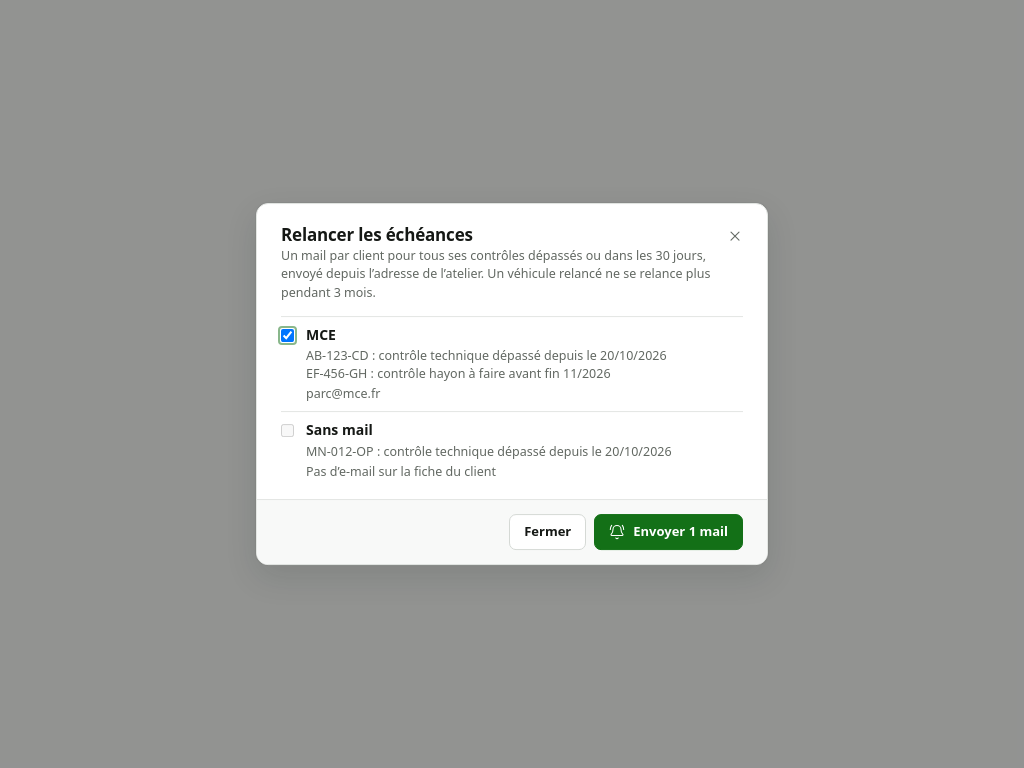
Test: relance des échéances › fenêtre de relance › un mail par client avec e-mail, relance notée sur chaque véhicule
Expected: the checkbox named "Relancer Sans mail" is disabled, [281,424,294,437]
Click the button "Envoyer 1 mail" at (669, 532), box [594,514,743,550]
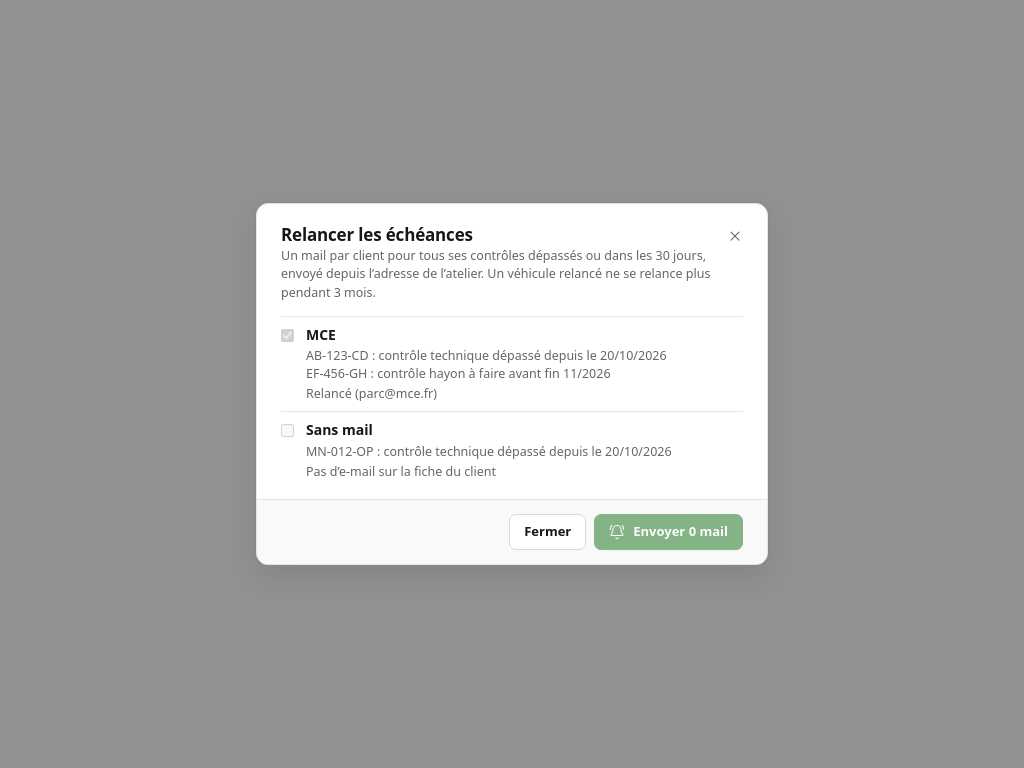
Now the text "Relancé (parc@mce.fr)" is shown, box [306,385,437,402]
